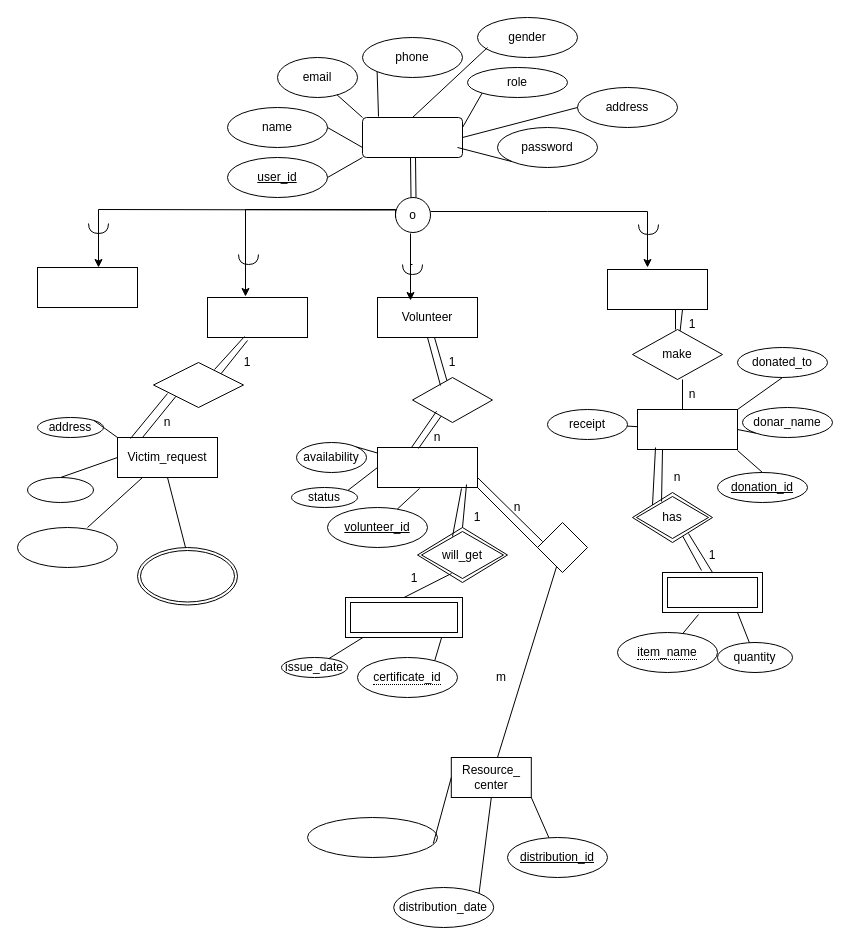
The diagram is 850 pixels wide and 945 high, and some of its shapes have lost their labels. The shapes that lost their labels are listed below. From the top down, each one's centre as x and y in pixels, then its label:
At (x=412, y=137): "User".
At (x=87, y=287): "Admin".
At (x=657, y=289): "Donor".
At (x=257, y=317): "Victim".
At (x=198, y=385): "request".
At (x=452, y=399): "accepted".
At (x=687, y=429): "Donation".
At (x=427, y=467): "volunteer_request".
At (x=60, y=489): "description".
At (x=67, y=547): "request_id".
At (x=562, y=547): "work".
At (x=187, y=575): "request_type".
At (x=712, y=592): "Donation_track".
At (x=403, y=617): "volunteer_certificate".
At (x=372, y=837): "handled_by_volunteer".
